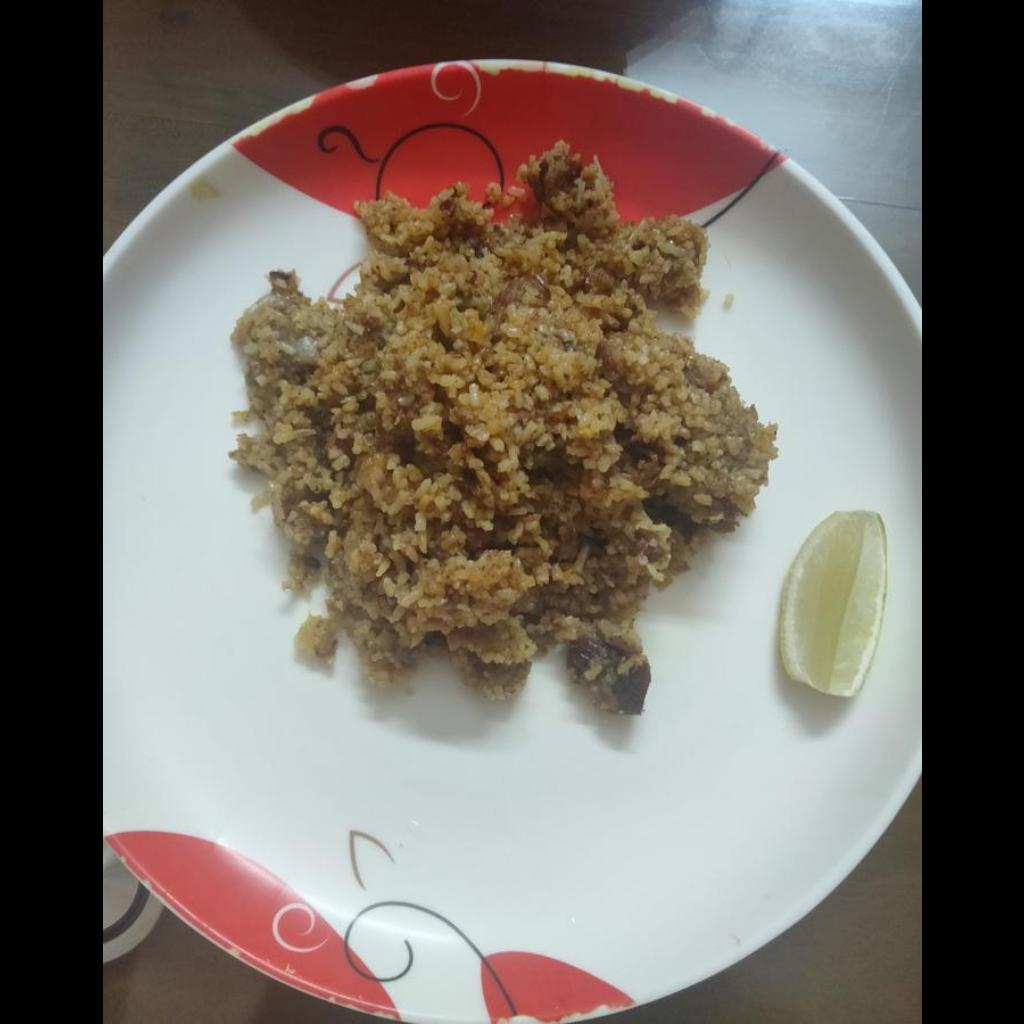biriyani: (224, 152, 771, 717)
